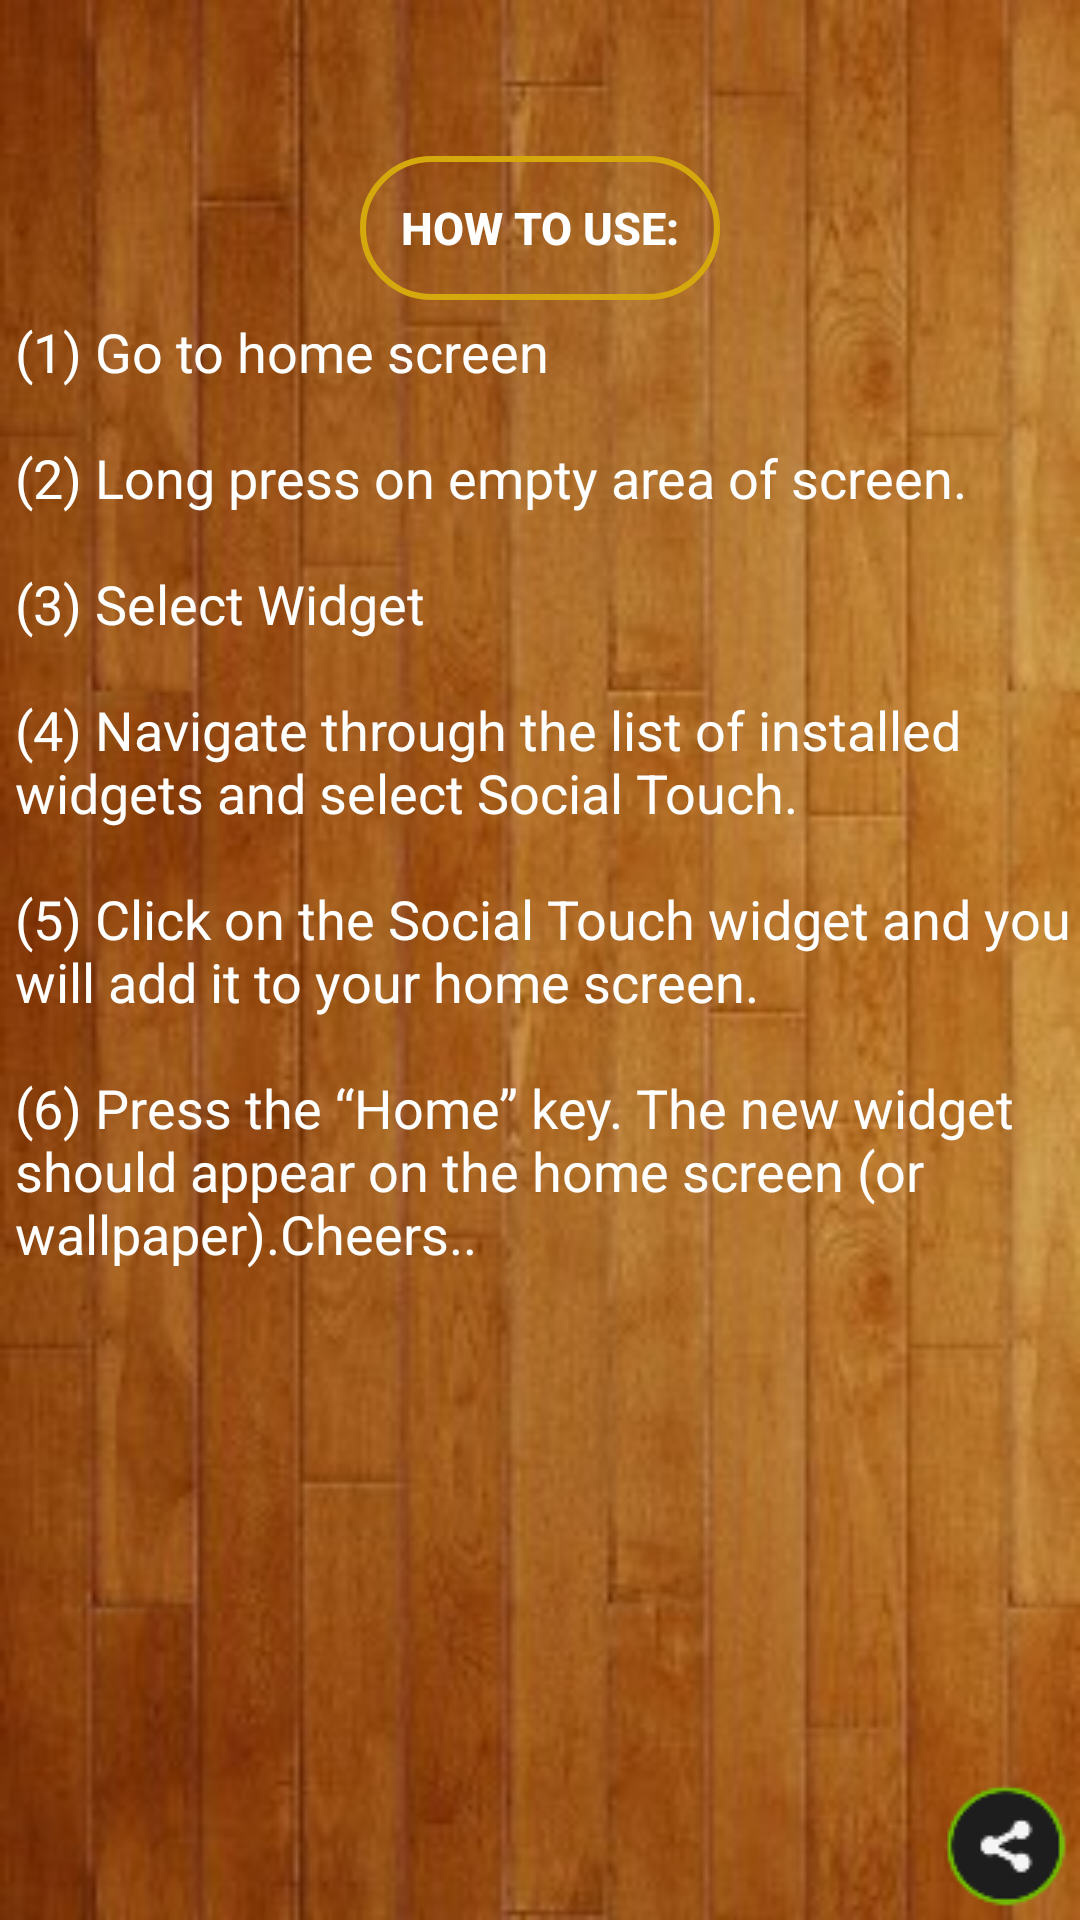

Where to tap for icons on this 1080 × 1920 app screen, as (x,y):
share: (1007,1845)
